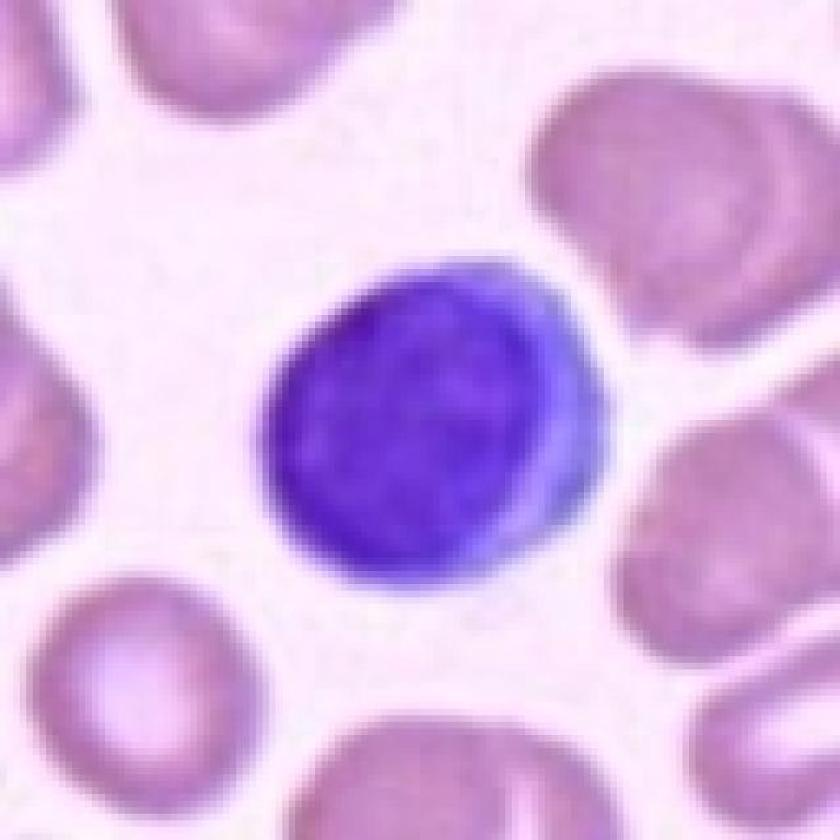lymphocyte: (245, 245, 623, 598)
